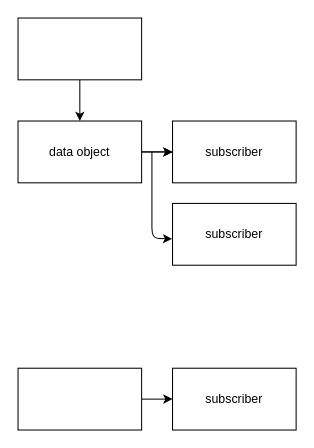
This 314x448 diagram has some shape labels left out. The shapes that lost their labels are listed below. From the top down, each one's centre as x and y in pixels, then its label:
At [79,48]: "subscribable".
At [79,398]: "subscribable object".
